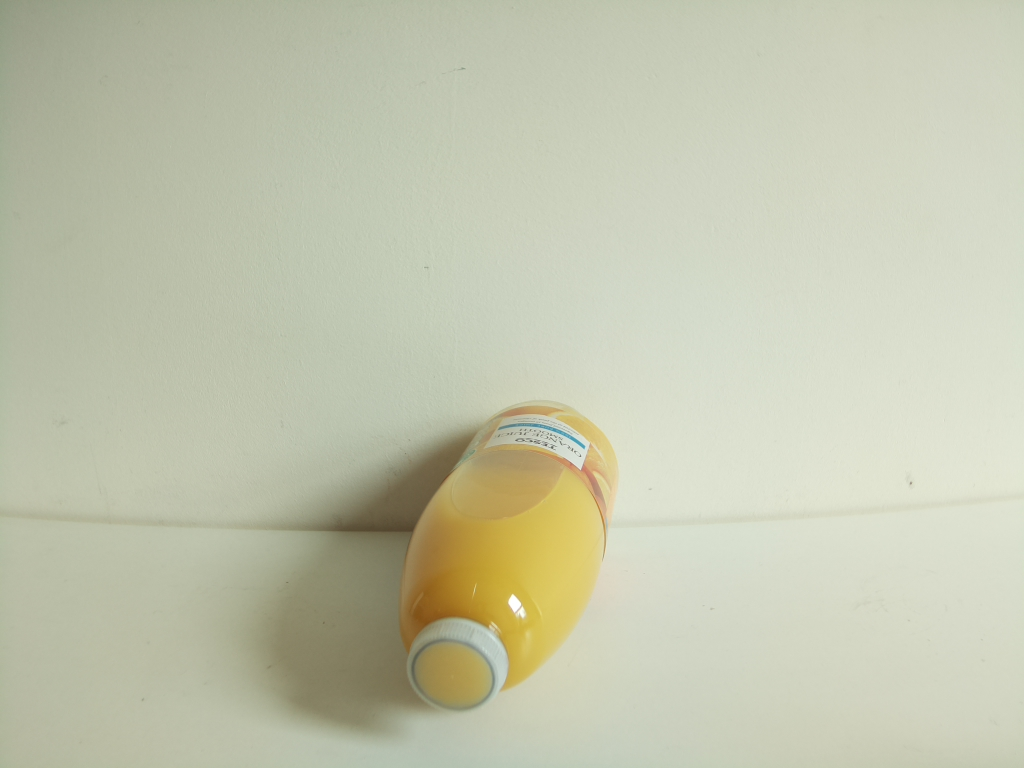juice: (387, 396, 619, 717)
